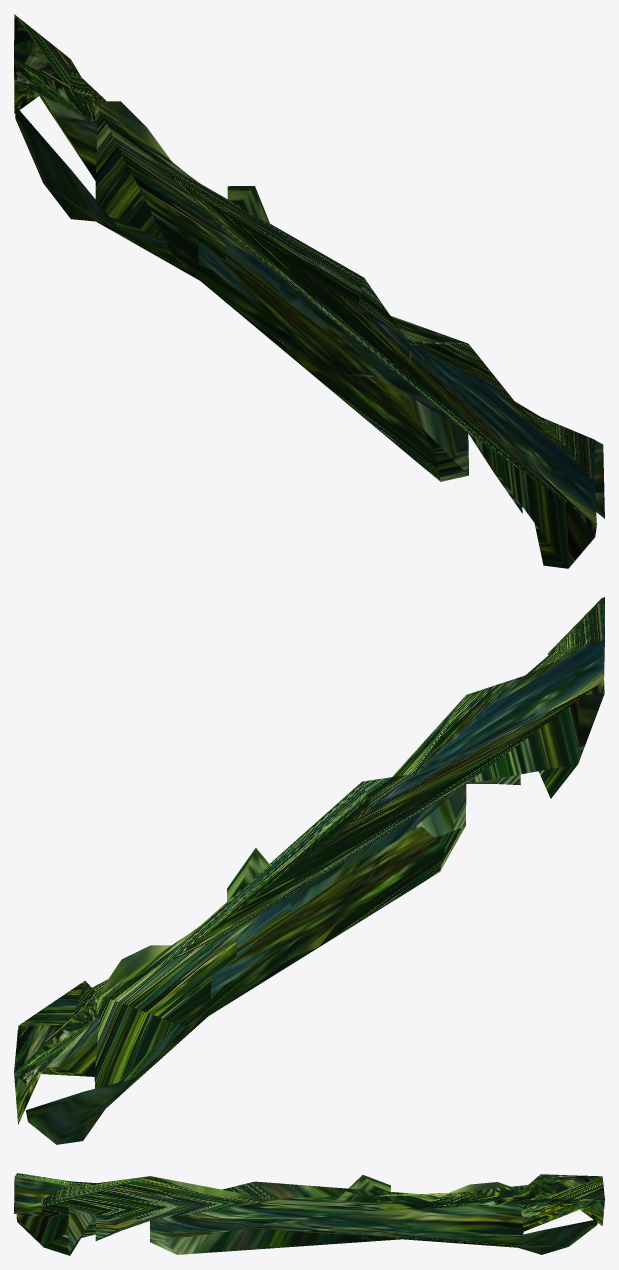
3 views of the same model, one above another, from view 1: azimuth 30°, elevation 25°; view 2: azimuth 150°, elevation 25°; view 3: azimuth 270°, elevation 25° (orthographic). The views are drawn at different scales.
Parts seen in each view (by area): view 1: algae_cube_Cube; view 2: algae_cube_Cube; view 3: algae_cube_Cube.
Part boxes in pixels (box(x1,y1,x2,y2)): algae_cube_Cube: box(14, 14, 604, 568); algae_cube_Cube: box(14, 597, 604, 1144); algae_cube_Cube: box(14, 1173, 604, 1255).
Bounding box in the file's own units: 0.0113 × 0.2303 × 1.49.
